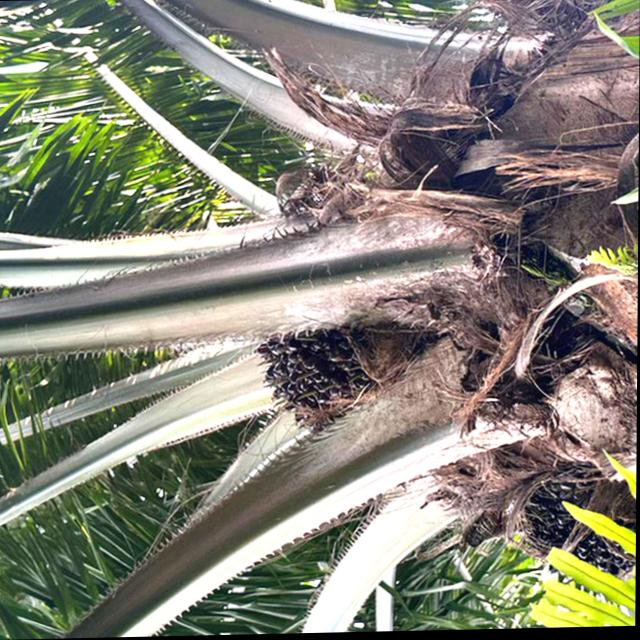unripe: (248, 300, 411, 446)
